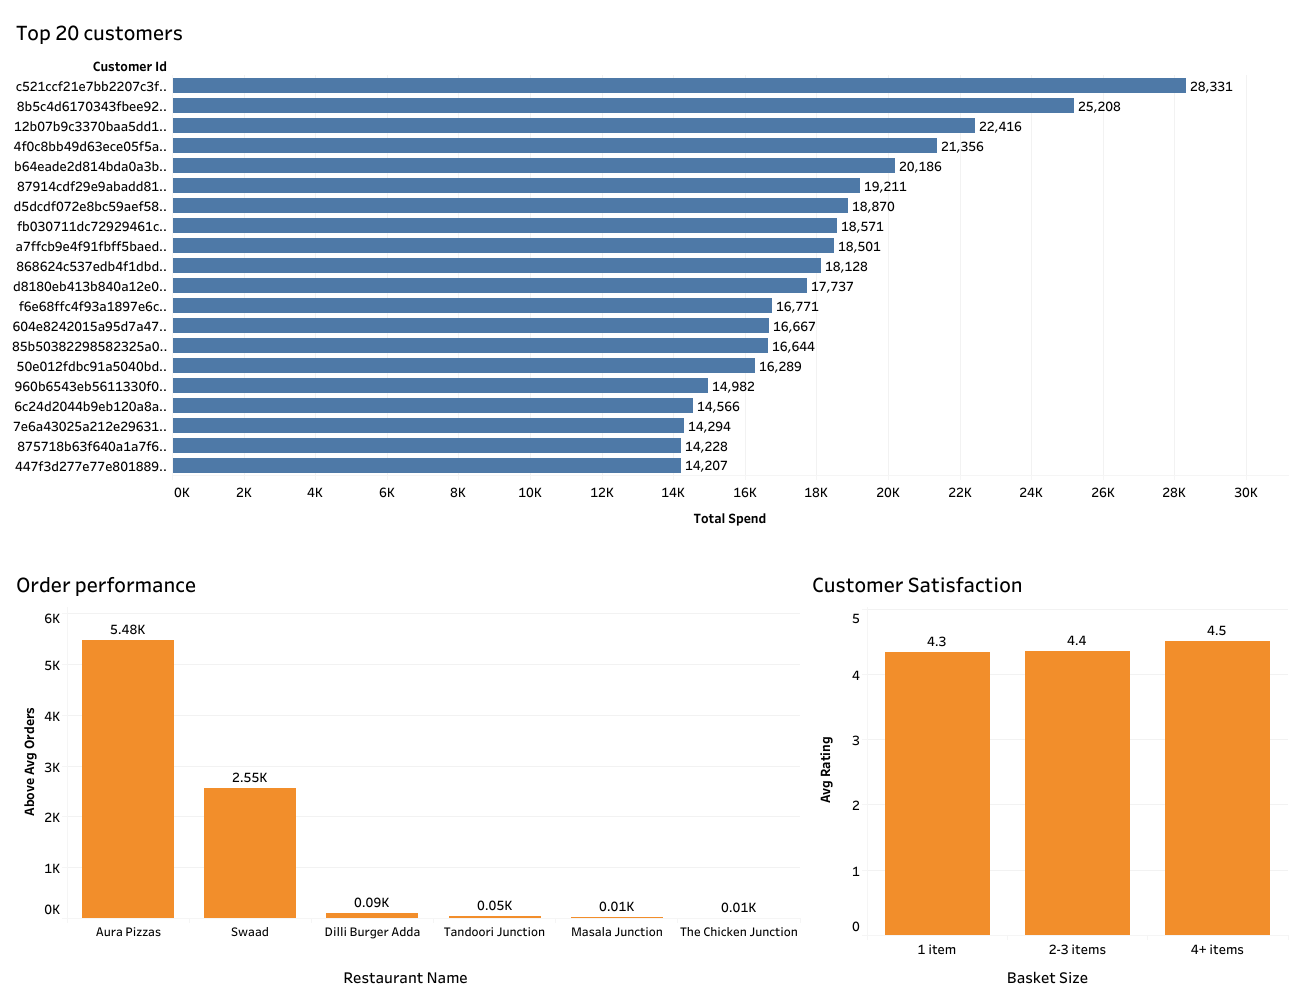

The dashboard page shown, as its layout file describes it:
{"tool":"tableau","page":{"name":"Executive dashboard 2","canvas":[1300,1000],"ordinal":1},"visuals":[{"type":"worksheet","title":"Top 20 Customers","mark":"Automatic","rows":["customer_id"],"cols":["total_spend"],"box":[8,8,1284,552]},{"type":"worksheet","title":"Order performance","mark":"Automatic","rows":["above_avg_orders"],"cols":["restaurant_name"],"box":[8,560,796,432]},{"type":"worksheet","title":"Rating by order size","mark":"Automatic","rows":["avg_rating"],"cols":["basket_size"],"box":[804,560,488,432]}]}

Visuals, with their boxes in screenshot pixels (x1, y1, x2, y2), scaled from the page's 1300x1000 canvas onto the 1299x999 screenshot:
"Top 20 Customers" worksheet: (left=8, top=8, right=1291, bottom=559)
"Order performance" worksheet: (left=8, top=559, right=803, bottom=991)
"Rating by order size" worksheet: (left=803, top=559, right=1291, bottom=991)
